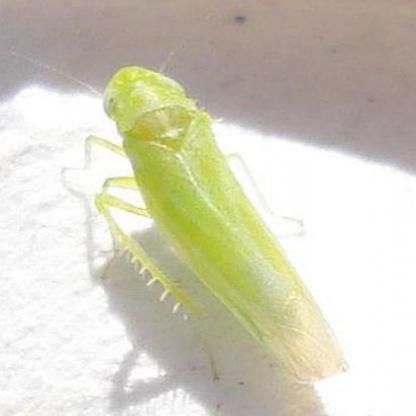green-leafhopper: (96, 65, 340, 380)
